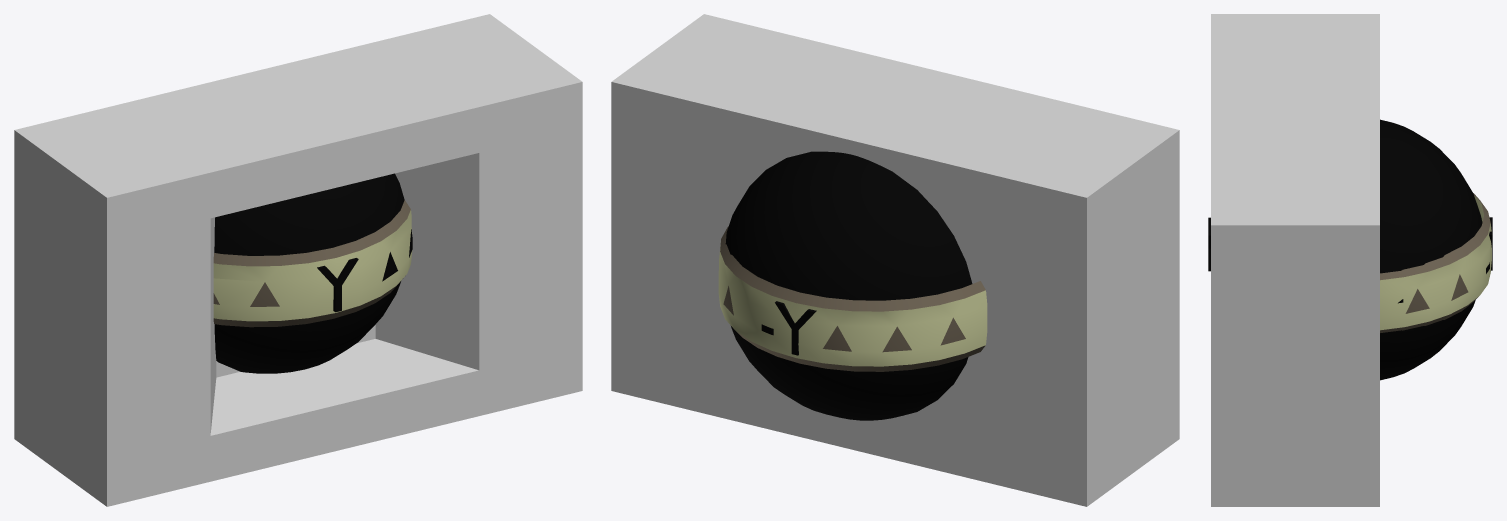
File: Compas.fbx
The picture shows the model from 3 angles, left to right: view 1: azimuth 30°, elevation 25°; view 2: azimuth 150°, elevation 25°; view 3: azimuth 270°, elevation 25°; orthographic projection. The views are drawn at different scales.
Visible parts, largest first — view 1: Cube, RotateObject, RotateObject.001; view 2: Cube, RotateObject, RotateObject.003; view 3: Cube, RotateObject.
Part boxes in pixels (x1,y1,x2,y2): Cube: (14,14,582,506); RotateObject: (213,200,412,327); RotateObject.001: (317,258,358,312); Cube: (611,14,1179,506); RotateObject: (718,226,987,371); RotateObject.003: (761,301,816,355); Cube: (1211,14,1482,506); RotateObject: (1380,193,1491,332).
Bounding box in the file's own units: 353 × 219 × 201.
